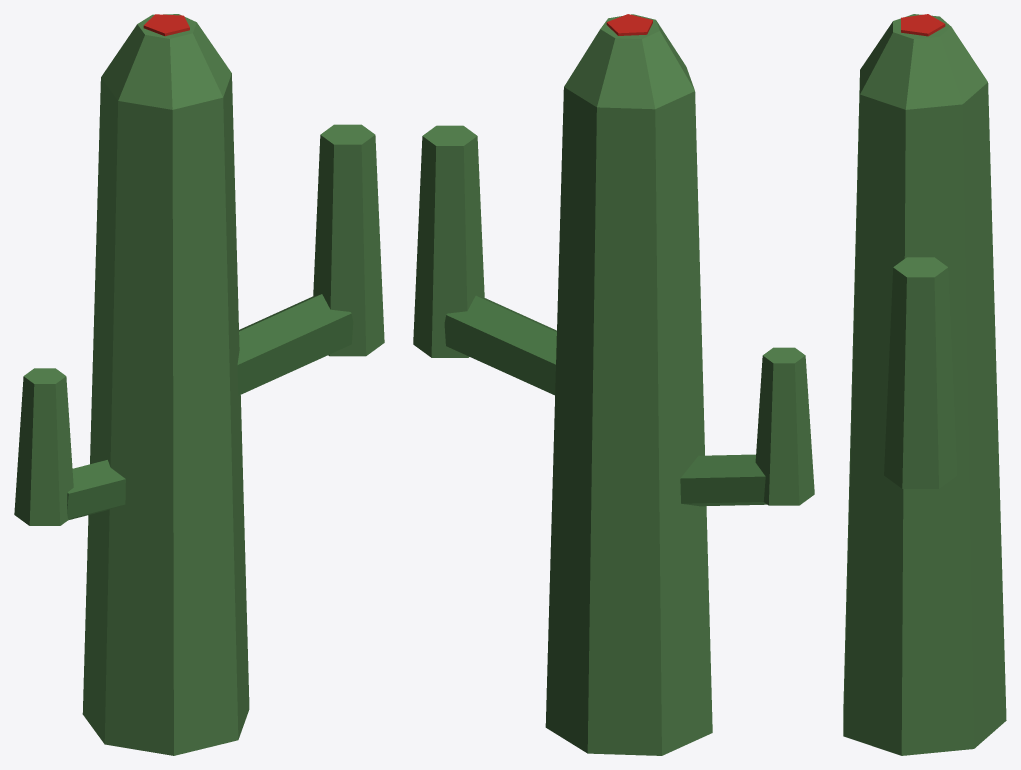
File: nature.cactus.glb
3 views of the same model, side by side, from view 1: azimuth 30°, elevation 25°; view 2: azimuth 150°, elevation 25°; view 3: azimuth 270°, elevation 25° (orthographic).
Parts seen in each view (by area): view 1: nature-cactus; view 2: nature-cactus; view 3: nature-cactus.
Part boxes in pixels (x1,y1,x2,y2): nature-cactus: (14, 14, 384, 755); nature-cactus: (413, 14, 814, 755); nature-cactus: (843, 14, 1006, 755).
Size of the model in its own units: 1.39 by 2.51 by 0.5323.
